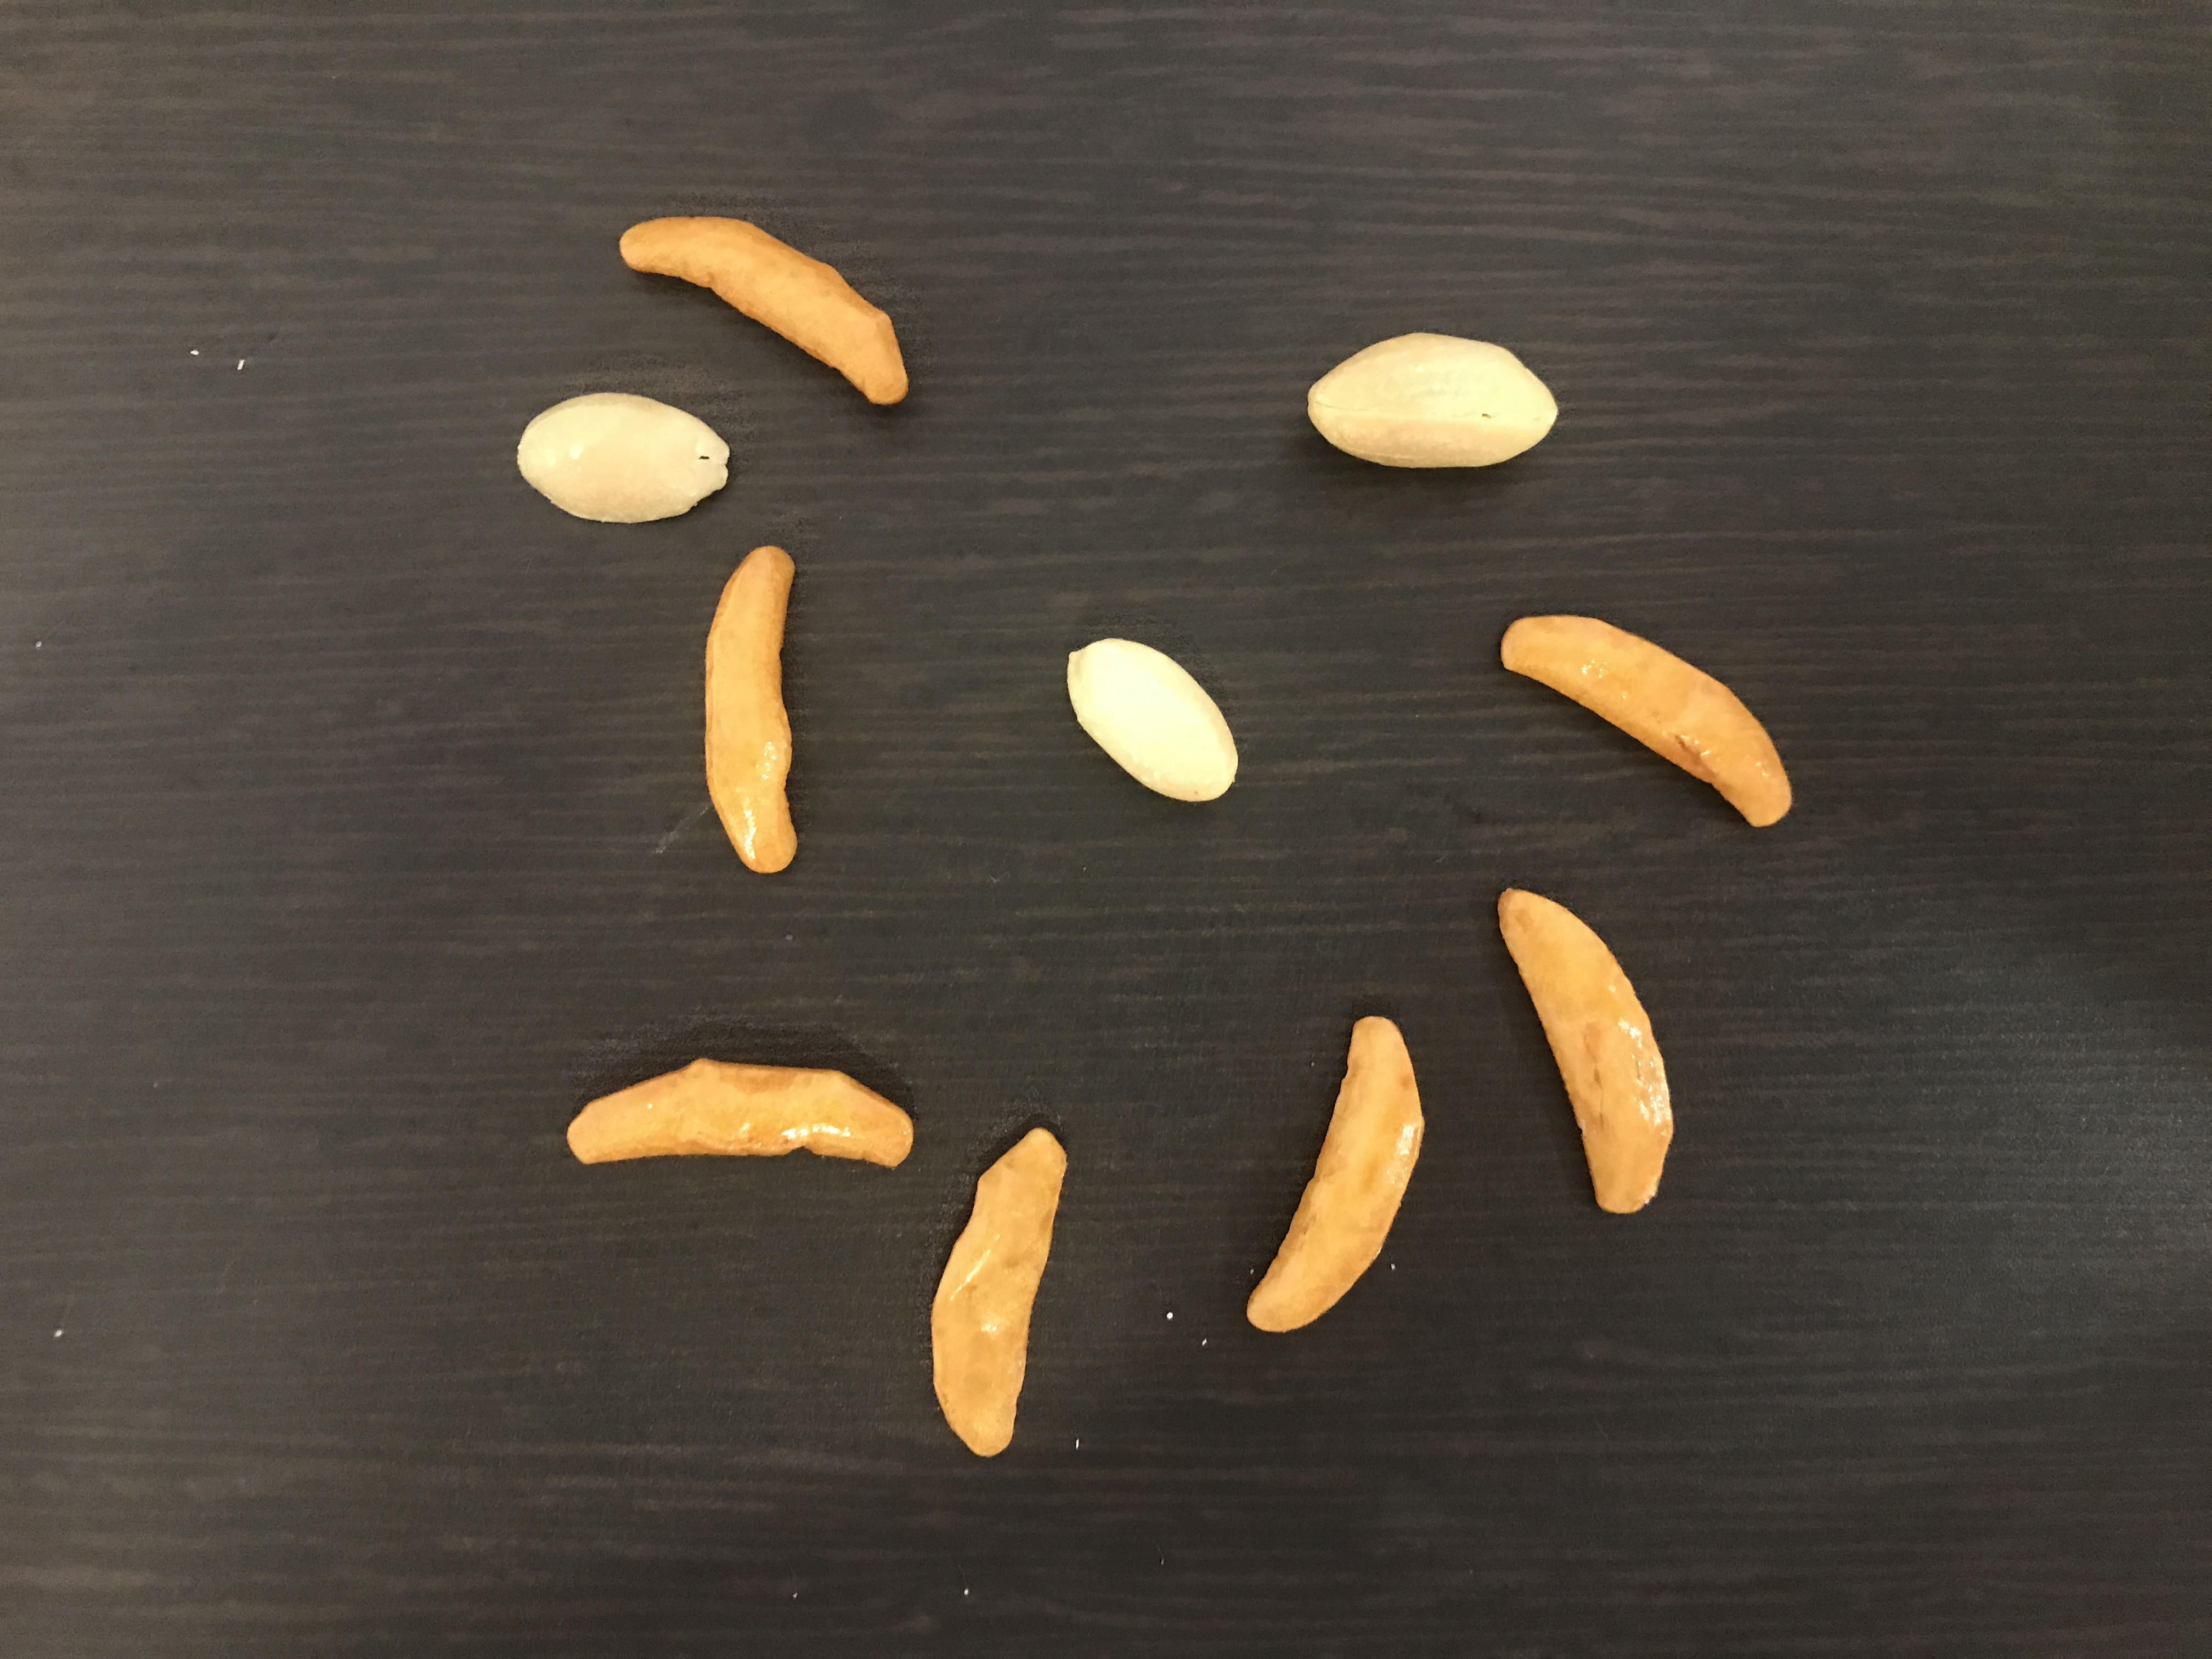peanut: (1282, 329, 1568, 479), (509, 382, 740, 533), (1062, 634, 1252, 805)
